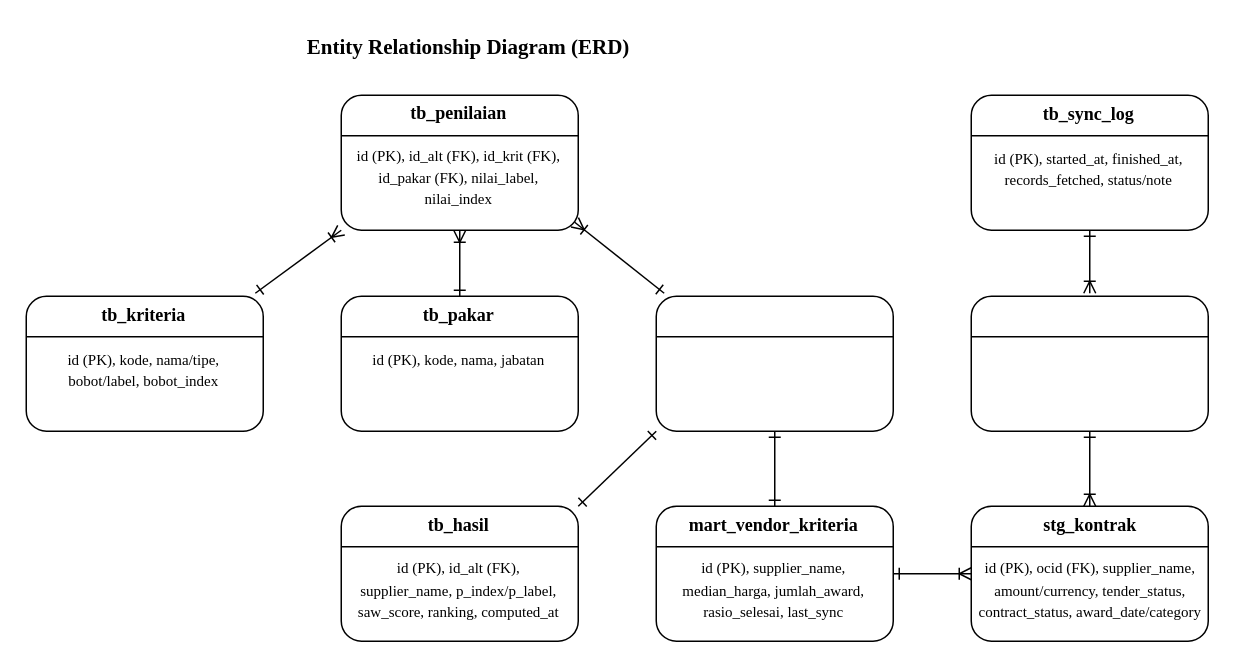
This 1253x668 diagram has some shape labels left out. The shapes that lost their labels are listed below. From the top down, each one's centre as x and y in pixels, then its label:
point 774,363: tb_alternatif id (PK), kode, nama, sumber (ocds/manual)
point 1089,363: raw_ocds id (PK), ocid, payload (JSON), fetched_at, source
